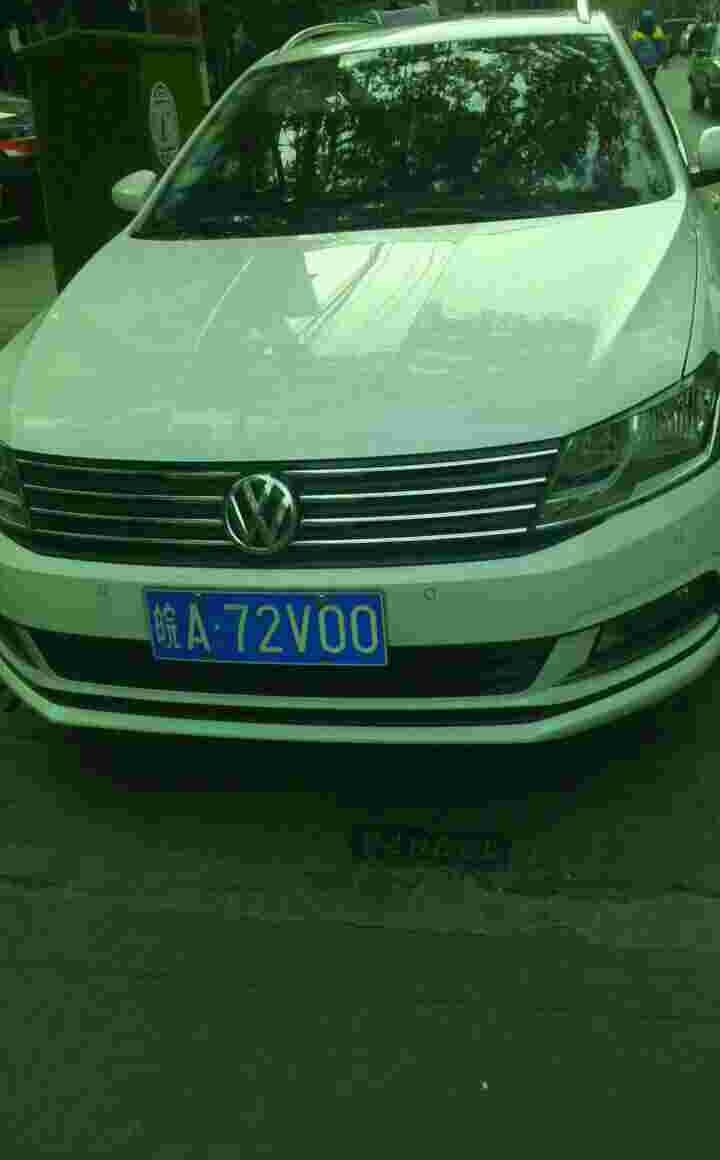license_plate: (138, 588, 384, 653)
